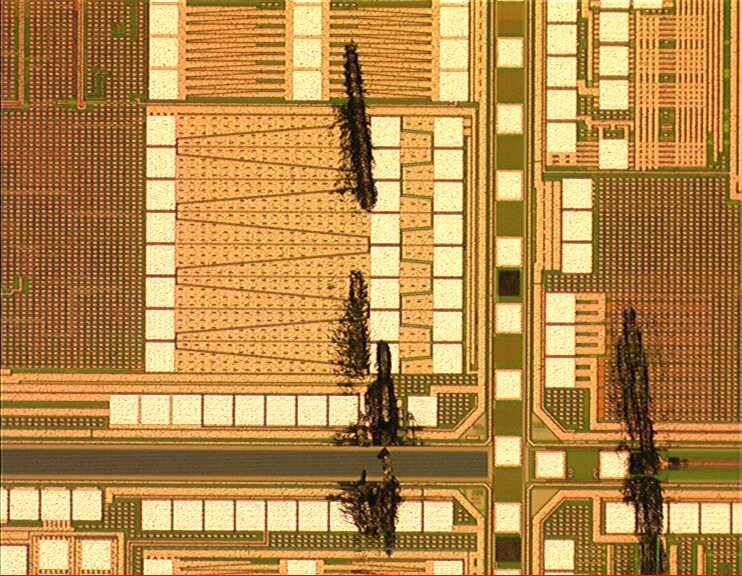SCRATCH: (325, 37, 484, 561), (485, 294, 678, 576)
